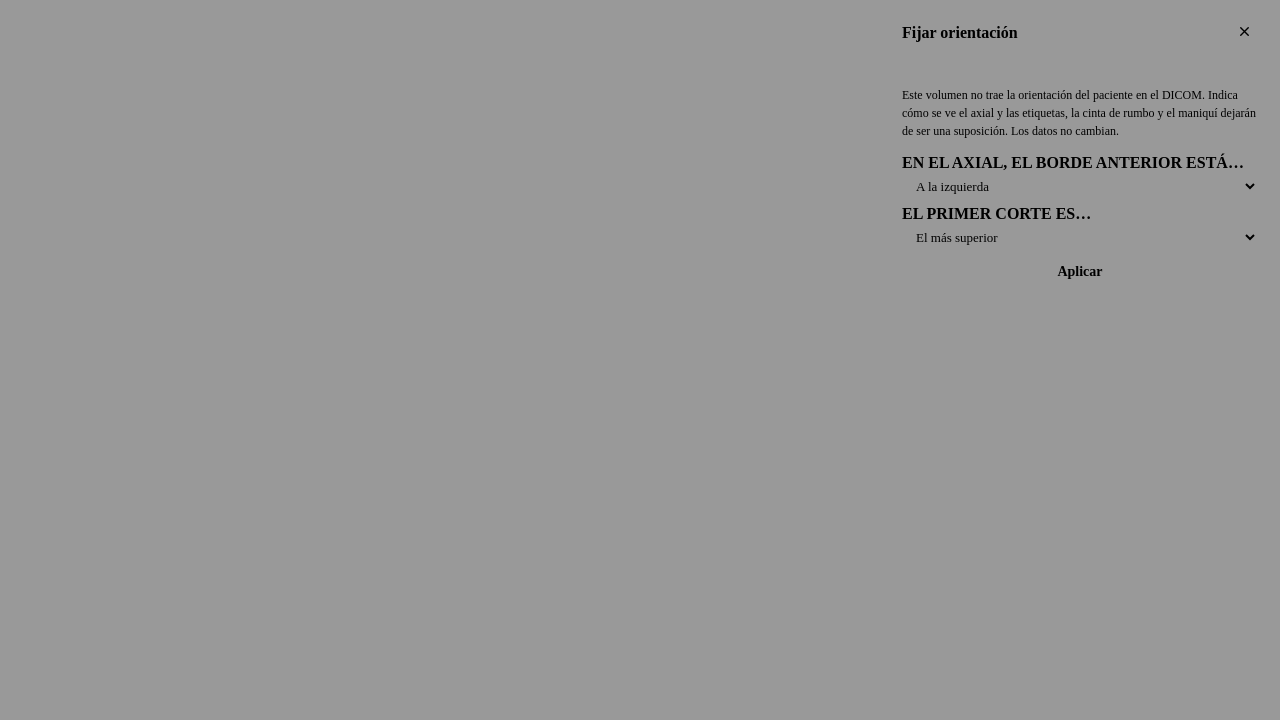
Test: OrientationSheet › restores the previous orientation and says so when the save fails
Step 1. Select "A la derecha" in the dropdown labelled "En el axial, el borde anterior está…" → (1080, 186), box 902,178 -> 1258,195
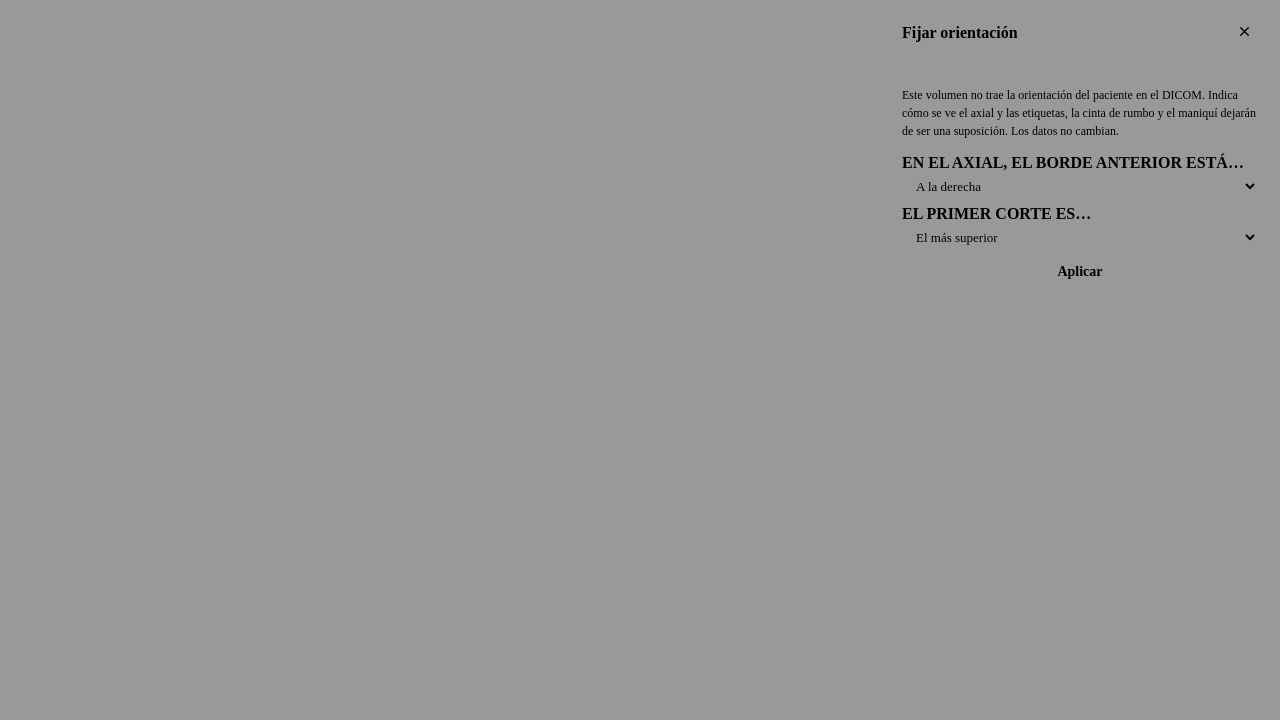
Step 2. Click the button "Aplicar" → (1080, 272), box 902,263 -> 1258,281
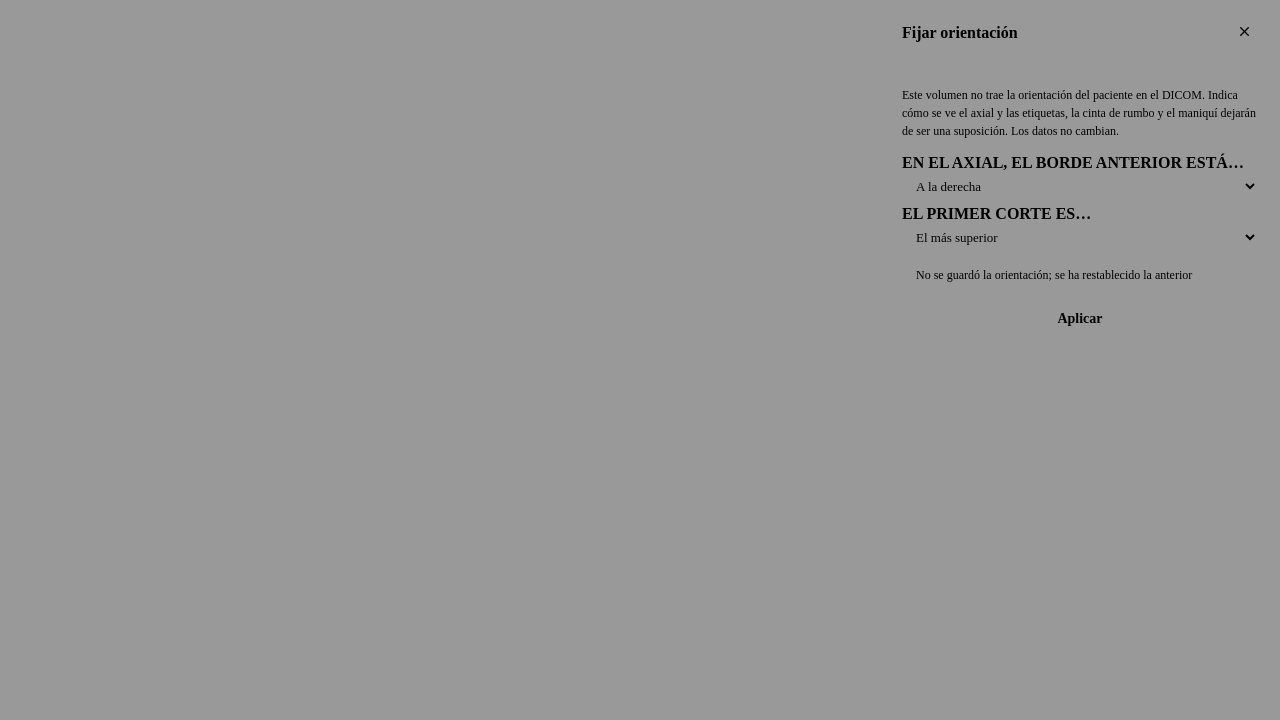
Check: the text "No se guardó la orientación; se ha restablecido la anterior" is shown, box 916,268 -> 1192,282
